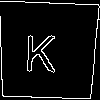K: (23, 25, 58, 72)
